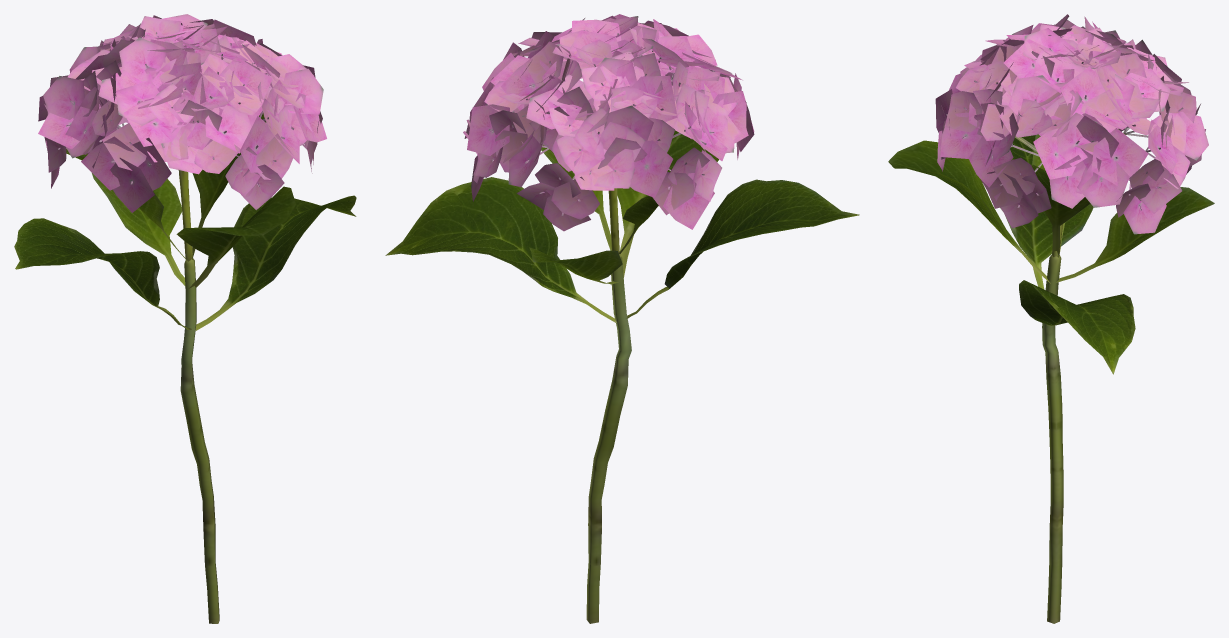
Rendered from Hydrangea OG SHORT PINK.glb.
The picture shows the model from 3 angles, left to right: view 1: azimuth 30°, elevation 25°; view 2: azimuth 150°, elevation 25°; view 3: azimuth 270°, elevation 25°; orthographic projection. The views are drawn at different scales.
Visible parts, largest first — view 1: Hydrangea; view 2: Hydrangea; view 3: Hydrangea.
Part boxes in pixels (x1,y1,x2,y2): Hydrangea: [14, 14, 356, 623]; Hydrangea: [385, 14, 859, 623]; Hydrangea: [888, 14, 1214, 623].
Bounding box in the file's own units: 1.38 × 1.94 × 1.
Materials: 1 (1 with a texture image).
